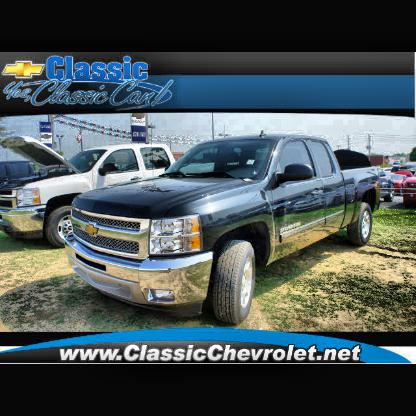Chevrolet Silverado 1500 Extended Cab 2012: (66, 131, 383, 322)
